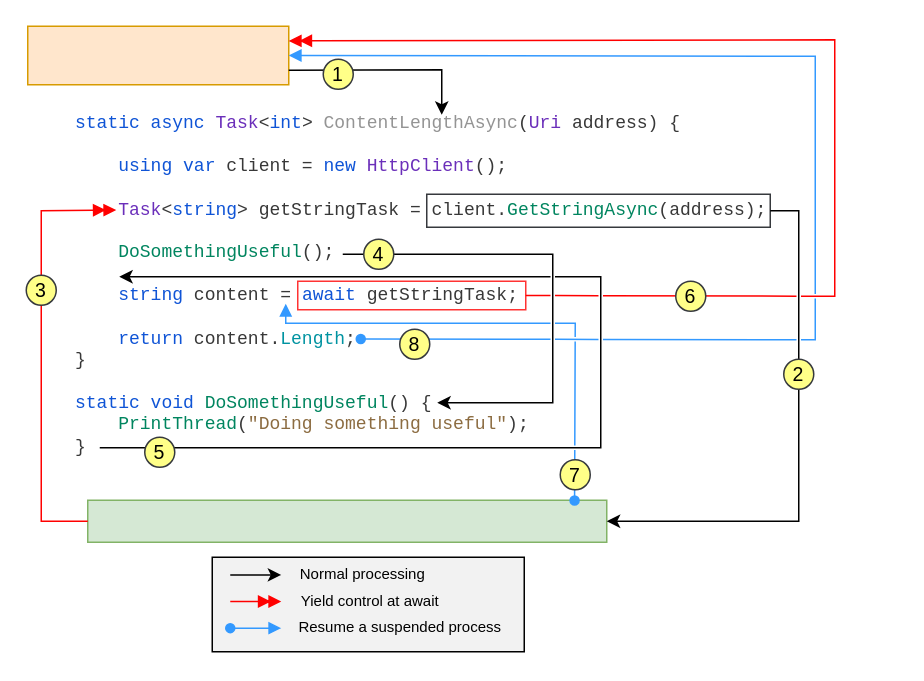
Some shapes in this 924 by 681 pixel diagram are drawn without their labels. The shapes that lost their labels are listed below. From the top down, each one's centre as x and y in pixels, then its label:
the point at 157,55: Calling method
the point at 346,520: Task < string > HttpClient . GetStringAsync ( Uri uri )
